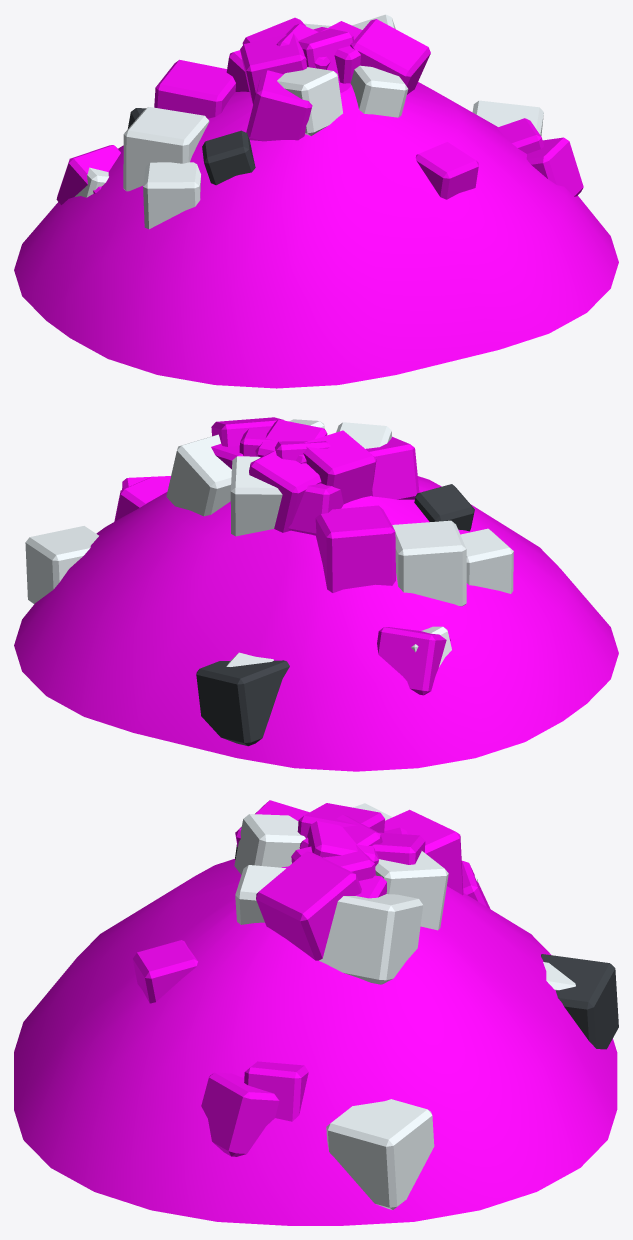
The model's file is objet_sel_lithium.glb.
The picture shows the model from 3 angles, top to bottom: view 1: azimuth 30°, elevation 25°; view 2: azimuth 150°, elevation 25°; view 3: azimuth 270°, elevation 25°; orthographic projection. The views are drawn at different scales.
Visible parts, largest first — view 1: sel_teinte.002, sel_reflet.002, sel_teinte_sombre.002; view 2: sel_teinte.002, sel_reflet.002, sel_teinte_sombre.002; view 3: sel_teinte.002, sel_reflet.002, sel_teinte_sombre.002.
Part boxes in pixels (box(x1,y1,x2,y2)): sel_teinte.002: box(14, 17, 618, 388); sel_reflet.002: box(75, 14, 543, 229); sel_teinte_sombre.002: box(128, 108, 255, 185); sel_teinte.002: box(14, 417, 618, 771); sel_reflet.002: box(25, 419, 513, 666); sel_teinte_sombre.002: box(196, 484, 474, 746); sel_teinte.002: box(14, 800, 617, 1225); sel_reflet.002: box(234, 803, 575, 1209); sel_teinte_sombre.002: box(235, 845, 618, 1049).
Size of the model in its own units: 0.25 by 0.1032 by 0.2207.
